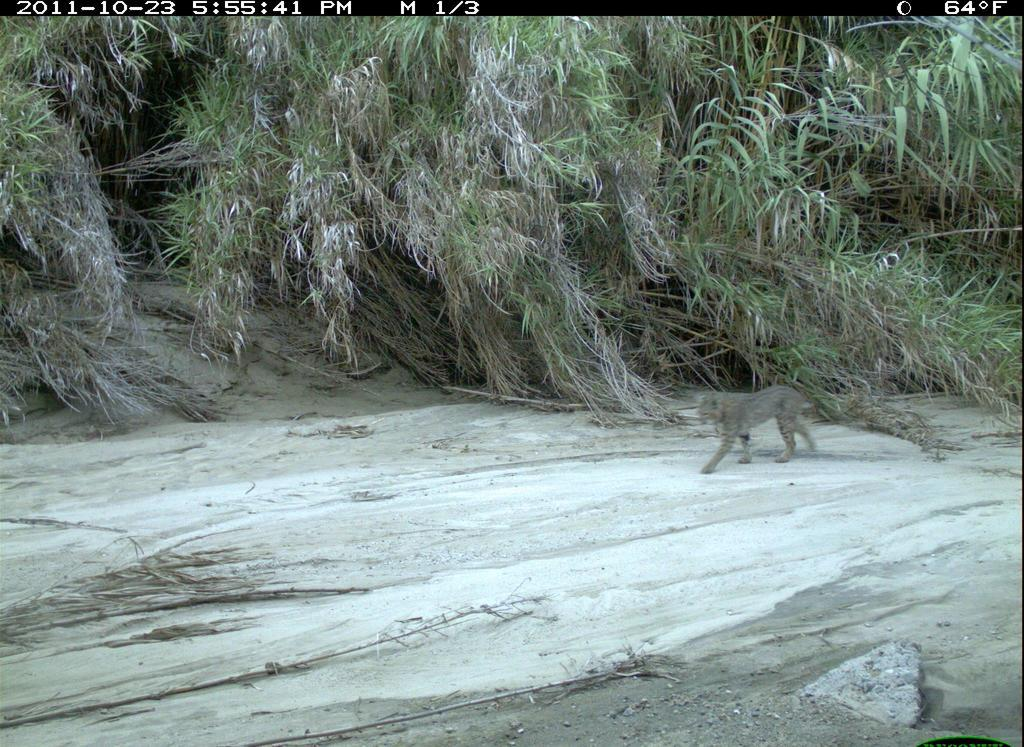bobcat: (688, 369, 841, 493)
